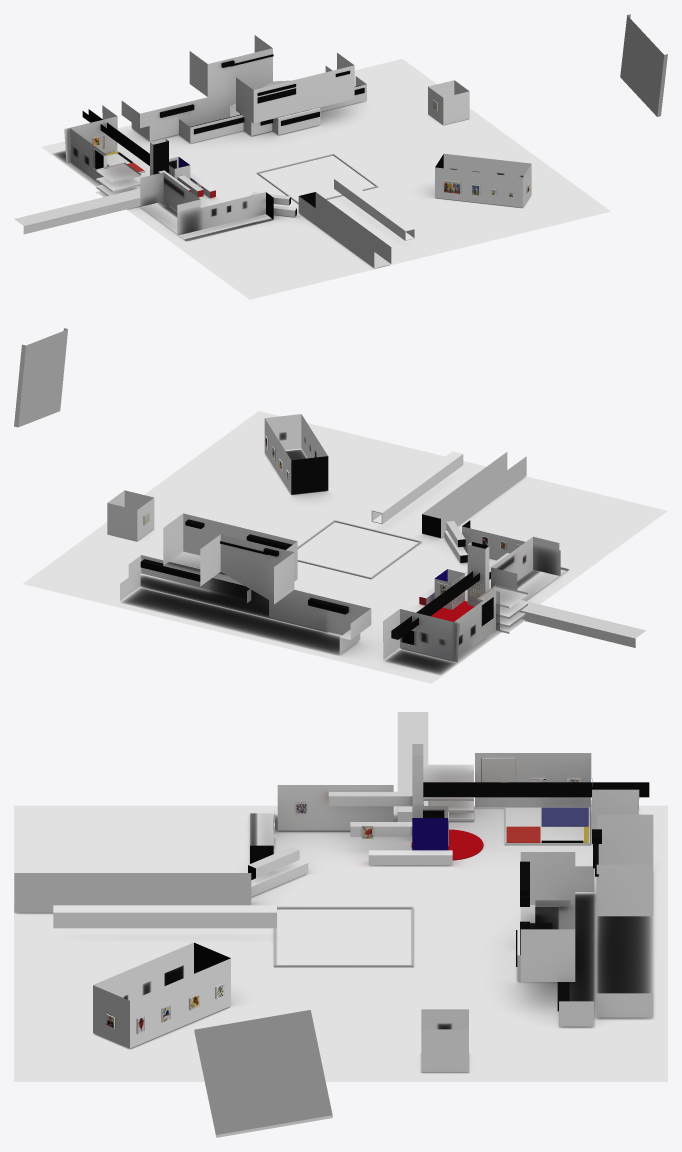
The model's file is FutureUpdated - NoInfo .glb.
The picture shows the model from 3 angles, top to bottom: view 1: azimuth 30°, elevation 25°; view 2: azimuth 150°, elevation 25°; view 3: azimuth 270°, elevation 25°; orthographic projection. The views are drawn at different scales.
Parts seen in each view (by area): view 1: Plane, Cube.008, Cube.017, Cube.016, Cube.069, Cube.025, Cube.034, Cube.026, Cube.021, Cube.039, Plane.002, Cube.059 (+3 smaller); view 2: Plane, Cube.008, Cube.034, Cube.069, Cube.017, Cube.025, Cube.021, Cube.026, Cube.016, Cube.039, Plane.002, Cube.002 (+3 smaller); view 3: Plane, Cube.008, Cube.069, Cube.016, Cube.025, Cube.034, Cube.017, Plane.002, Cube.028, Cube.039, Cube.021, Cube.020 (+8 smaller).
Boxes of the visible parts, bbox=[...] form: Plane: bbox=[41, 59, 610, 299]; Cube.008: bbox=[121, 35, 366, 143]; Cube.017: bbox=[140, 172, 296, 235]; Cube.016: bbox=[435, 153, 531, 207]; Cube.069: bbox=[620, 14, 667, 116]; Cube.025: bbox=[298, 192, 391, 267]; Cube.034: bbox=[64, 105, 145, 185]; Cube.026: bbox=[14, 188, 140, 234]; Cube.021: bbox=[96, 138, 190, 196]; Cube.039: bbox=[428, 80, 469, 125]; Plane.002: bbox=[334, 176, 414, 240]; Cube.059: bbox=[141, 201, 272, 240]; Plane: bbox=[23, 411, 667, 683]; Cube.008: bbox=[120, 513, 371, 654]; Cube.034: bbox=[383, 591, 499, 661]; Cube.069: bbox=[14, 328, 67, 427]; Cube.017: bbox=[444, 522, 560, 589]; Cube.025: bbox=[422, 452, 526, 537]; Cube.021: bbox=[434, 542, 527, 633]; Cube.026: bbox=[519, 600, 645, 647]; Cube.016: bbox=[264, 414, 327, 493]; Cube.039: bbox=[107, 490, 154, 541]; Plane.002: bbox=[371, 451, 463, 524]; Cube.002: bbox=[291, 456, 328, 494]; Plane: bbox=[14, 805, 667, 1081]; Cube.008: bbox=[517, 814, 653, 1026]; Cube.069: bbox=[194, 1010, 332, 1137]; Cube.016: bbox=[93, 942, 230, 1048]; Cube.025: bbox=[14, 873, 251, 912]; Cube.034: bbox=[475, 753, 639, 845]; Cube.017: bbox=[251, 785, 393, 896]; Plane.002: bbox=[53, 905, 276, 928]; Cube.028: bbox=[423, 782, 649, 797]; Cube.039: bbox=[421, 1009, 468, 1072]; Cube.021: bbox=[412, 744, 473, 821]; Cube.020: bbox=[328, 796, 452, 865].
Size of the model in its own units: 108 by 17.8 by 67.11.
Materials: 95 (48 with a texture image).
